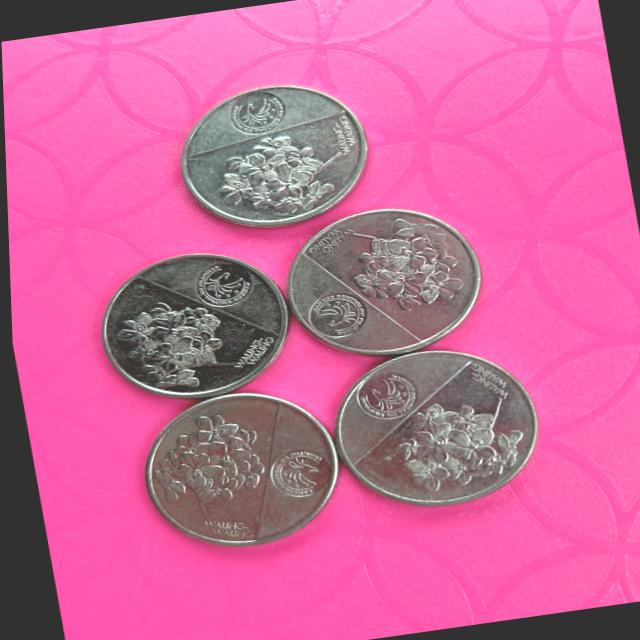1_New_Back: (96, 282, 264, 404), (199, 119, 370, 228), (323, 214, 478, 332), (382, 388, 535, 503), (144, 410, 262, 544)
